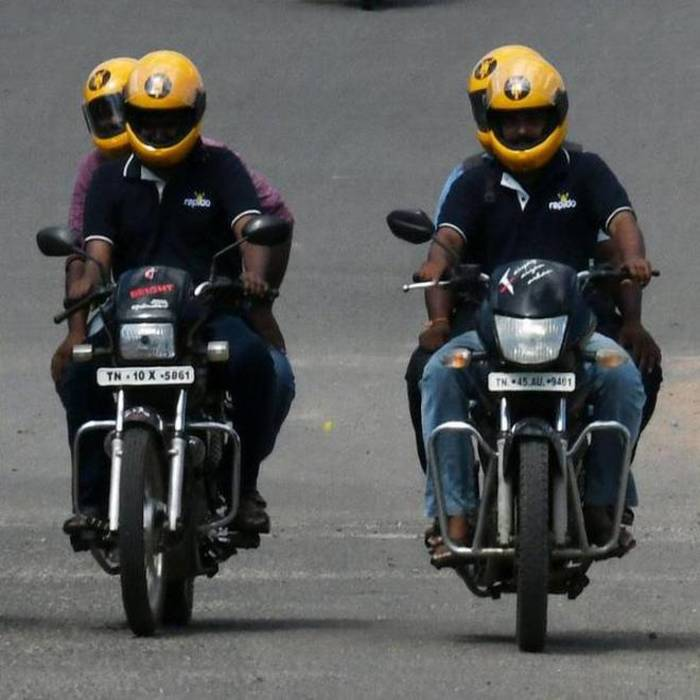h: (484, 56, 571, 170), (124, 48, 208, 165), (80, 51, 123, 151)
n: (92, 363, 198, 389), (484, 368, 576, 394)
